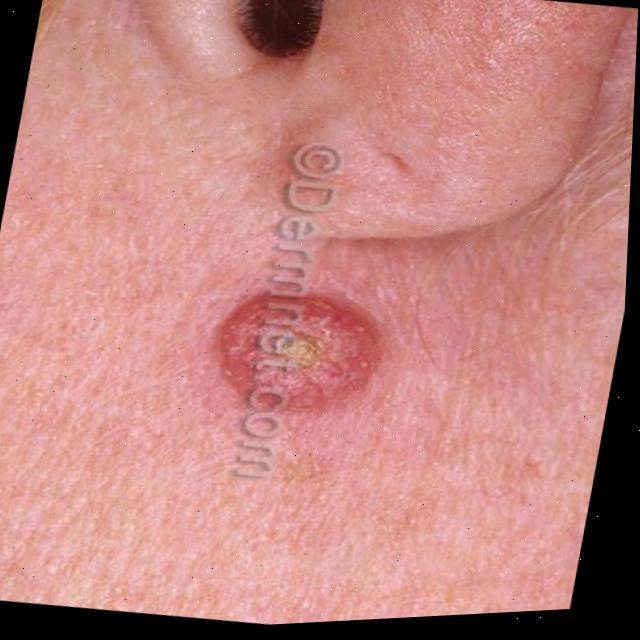Eczema: (214, 310, 353, 387)
